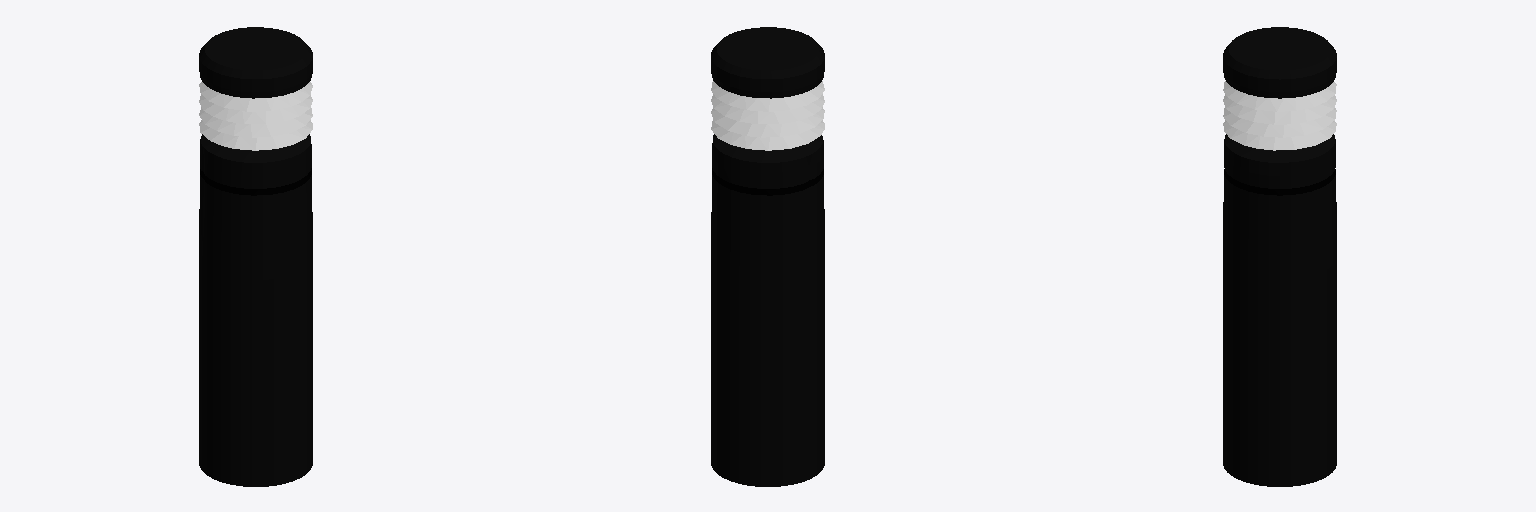
Rendered from lights_Sagamiharacampus_objver.obj.
3 renders of one model, left to right at view 1: azimuth 30°, elevation 25°; view 2: azimuth 150°, elevation 25°; view 3: azimuth 270°, elevation 25°, orthographic.
Visible parts, largest first — view 1: Cylinder; view 2: Cylinder; view 3: Cylinder.
Boxes of the visible parts, x1,y1,x2,y2 form: Cylinder: [199, 27, 312, 486]; Cylinder: [711, 27, 824, 486]; Cylinder: [1223, 27, 1336, 486].
Bounding box in the file's own units: 2 × 8 × 2.